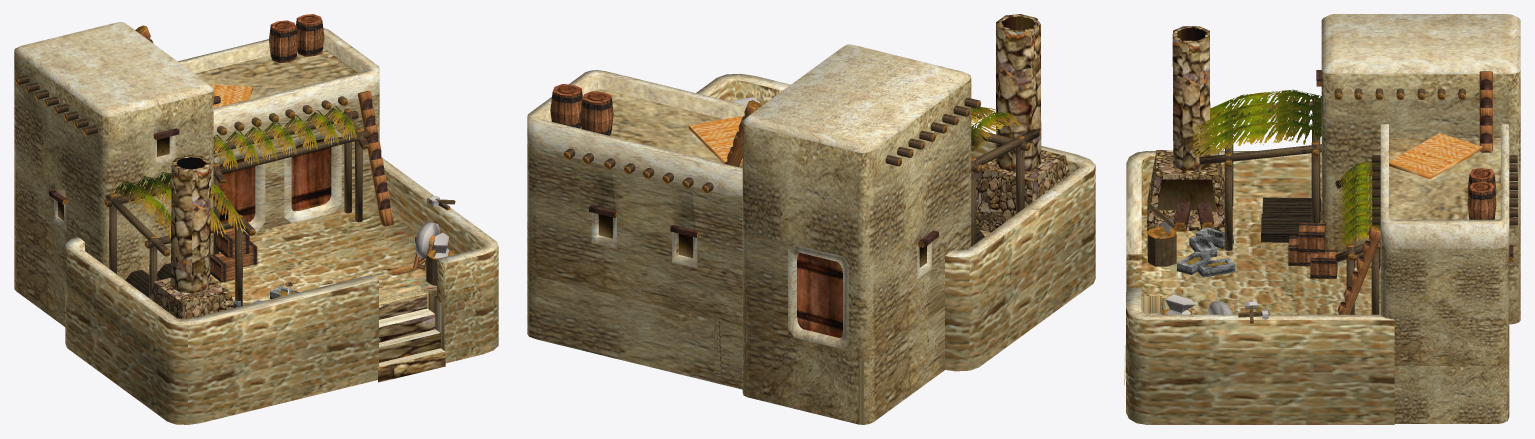
The model's file is forge.dae.
The picture shows the model from 3 angles, left to right: view 1: azimuth 30°, elevation 25°; view 2: azimuth 150°, elevation 25°; view 3: azimuth 270°, elevation 25°; orthographic projection. The views are drawn at different scales.
Visible parts, largest first — view 1: forge; view 2: forge; view 3: forge.
Boxes of the visible parts, x1,y1,x2,y2 form: forge: [14, 14, 498, 424]; forge: [527, 14, 1095, 424]; forge: [1124, 14, 1520, 424].
Size of the model in its own units: 19.62 by 18.99 by 13.63.
